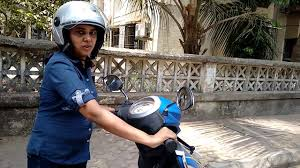helmet: (50, 1, 108, 59)
